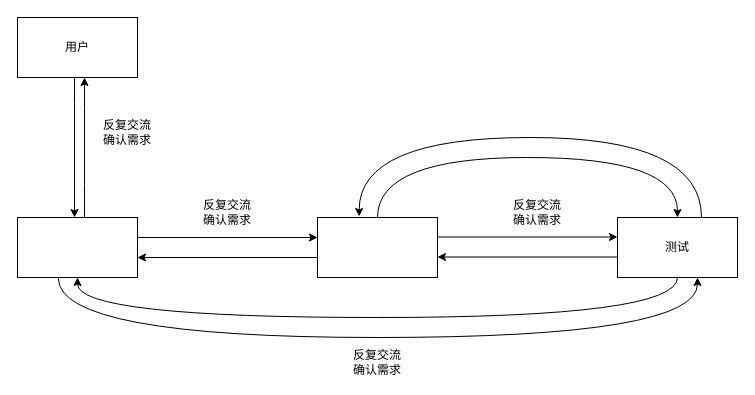
Some shapes in this 755 by 395 pixel diagram are drawn without their labels. The shapes that lost their labels are listed below. From the top down, each one's box as (x1, y1, x2, y2) in pixels, then its label:
(16, 216, 138, 278): 产品
(316, 216, 438, 278): 开发
